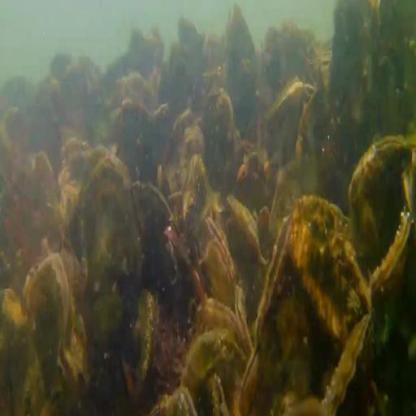Oyster- Indeterminate: (79, 157, 140, 350), (25, 256, 71, 370), (260, 211, 293, 351), (191, 300, 248, 349), (205, 236, 236, 312), (271, 80, 315, 133), (238, 344, 265, 416), (153, 382, 197, 415), (200, 374, 230, 416), (204, 218, 228, 259)
Oyster-Closed: (289, 199, 372, 339), (350, 134, 414, 264), (324, 316, 372, 416), (368, 211, 410, 312), (119, 277, 155, 393), (132, 182, 175, 273), (224, 191, 266, 270), (181, 343, 239, 394), (226, 7, 257, 84), (184, 157, 207, 238)
